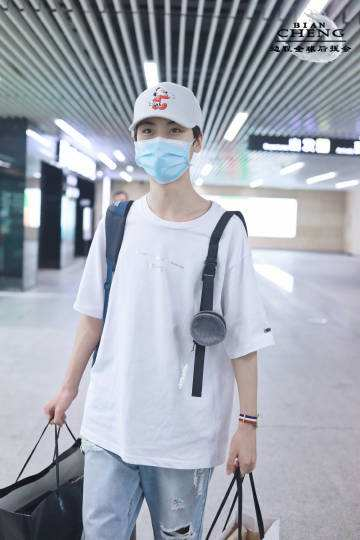face: (132, 117, 195, 184)
mask: (132, 139, 195, 184)
